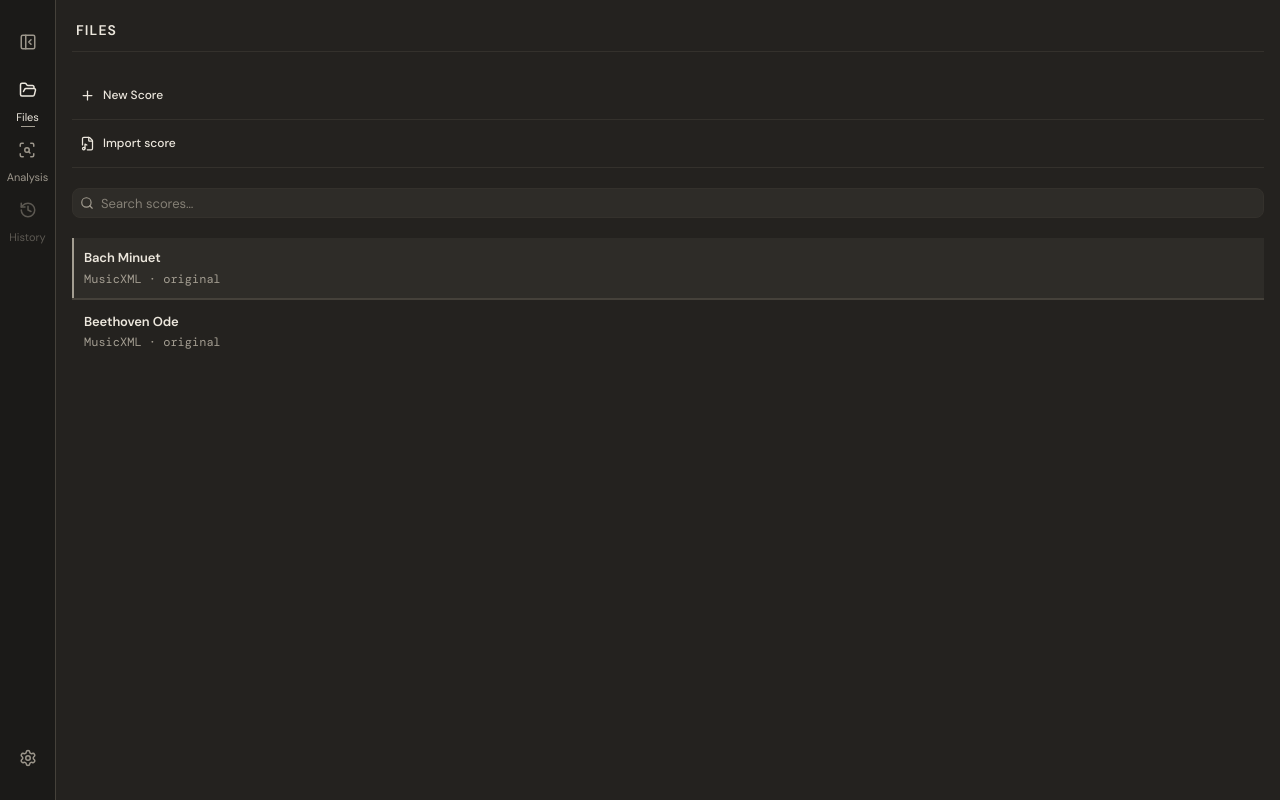
Scenario: FileRail Component › confirms deletion through a centered dialog before deleting
The width and height of the screenshot is (1280, 800).
Right-click the button with aria-label "Open Bach Minuet" at (122, 258), box [72, 238, 1264, 298]
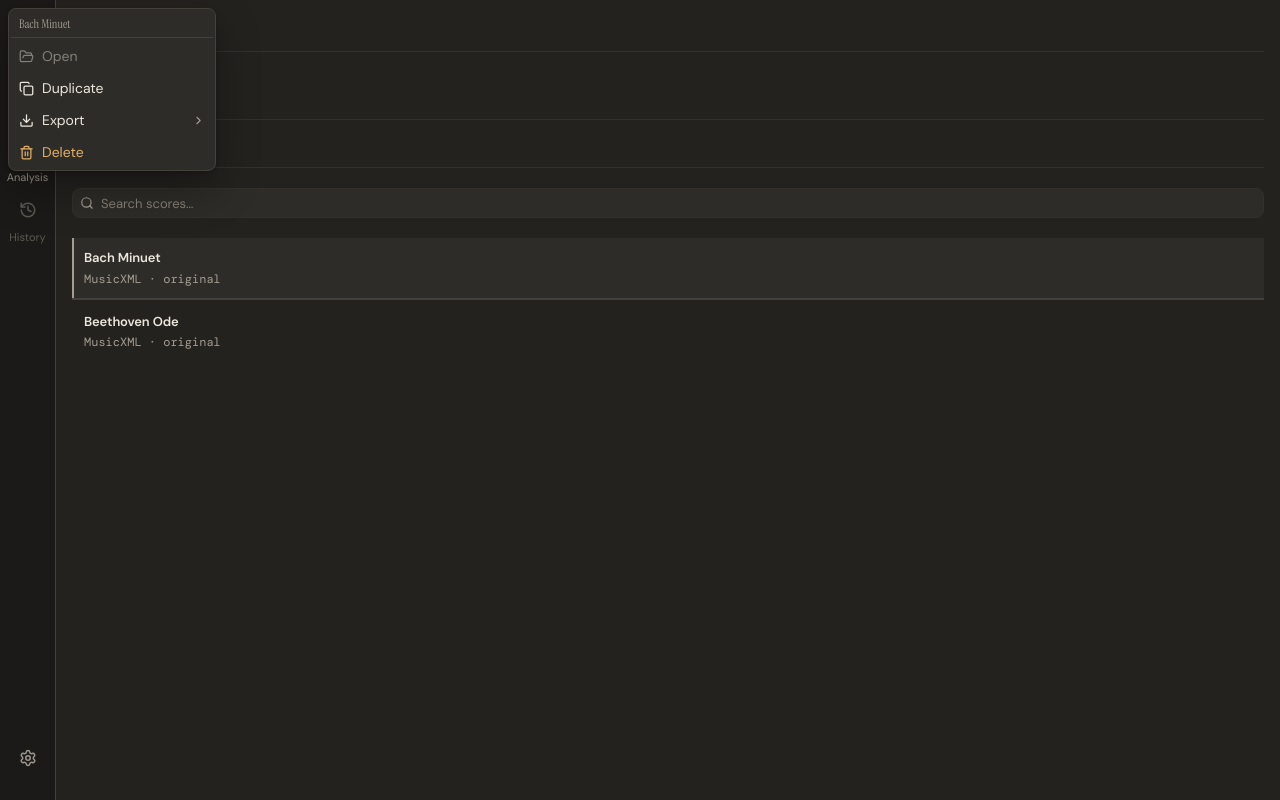
Click the menu item "Delete" at (112, 152), box [11, 136, 213, 168]
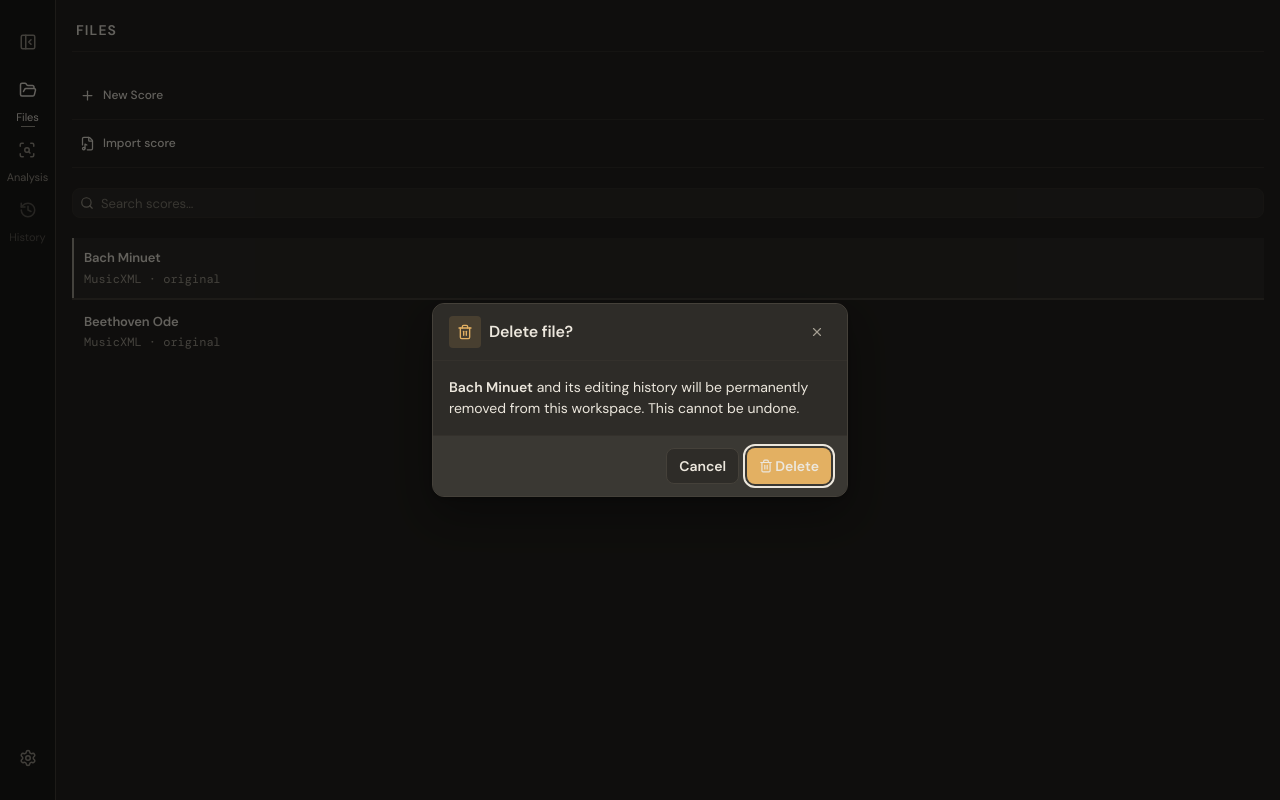
Expected: the dialog is shown, [432, 303, 848, 497]
Click the button "Cancel" at (703, 466), box [666, 448, 739, 484]
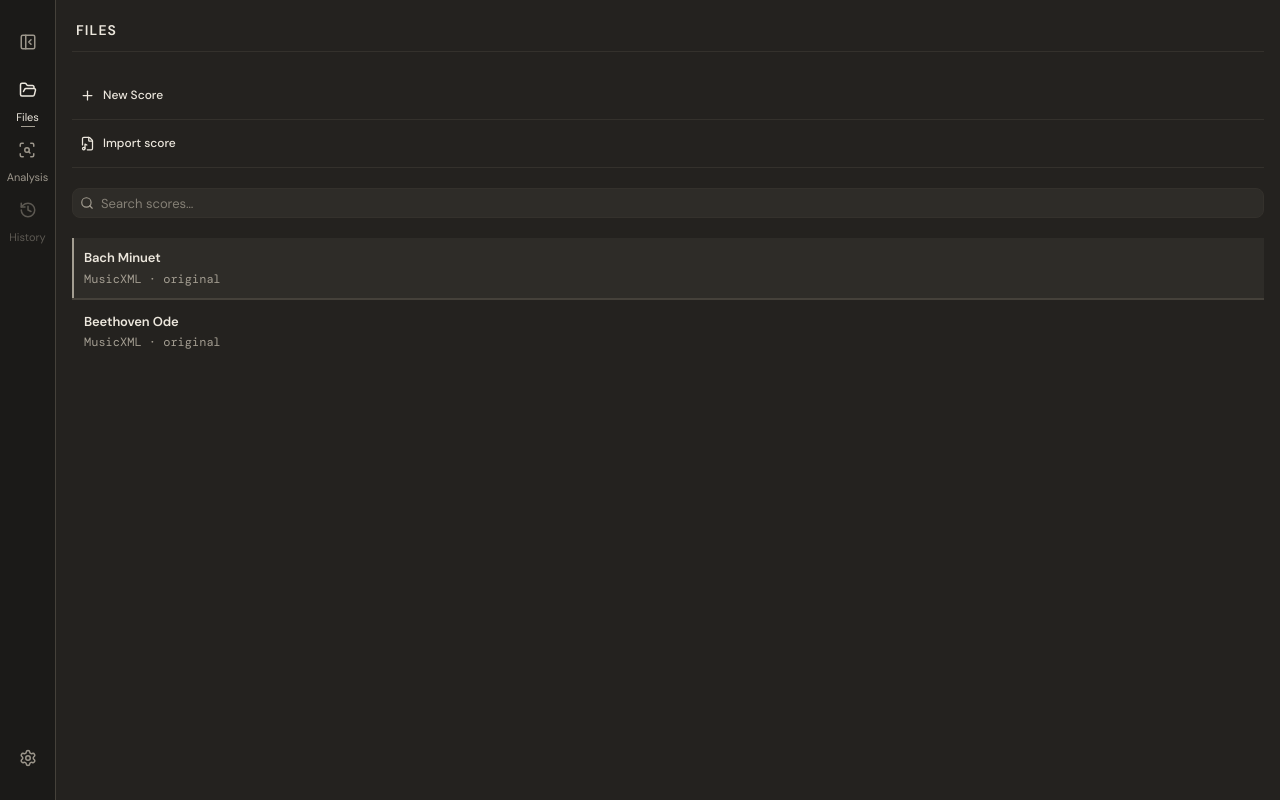
Expected: the dialog is gone
Right-click the button with aria-label "Open Bach Minuet" at (122, 258), box [72, 238, 1264, 298]
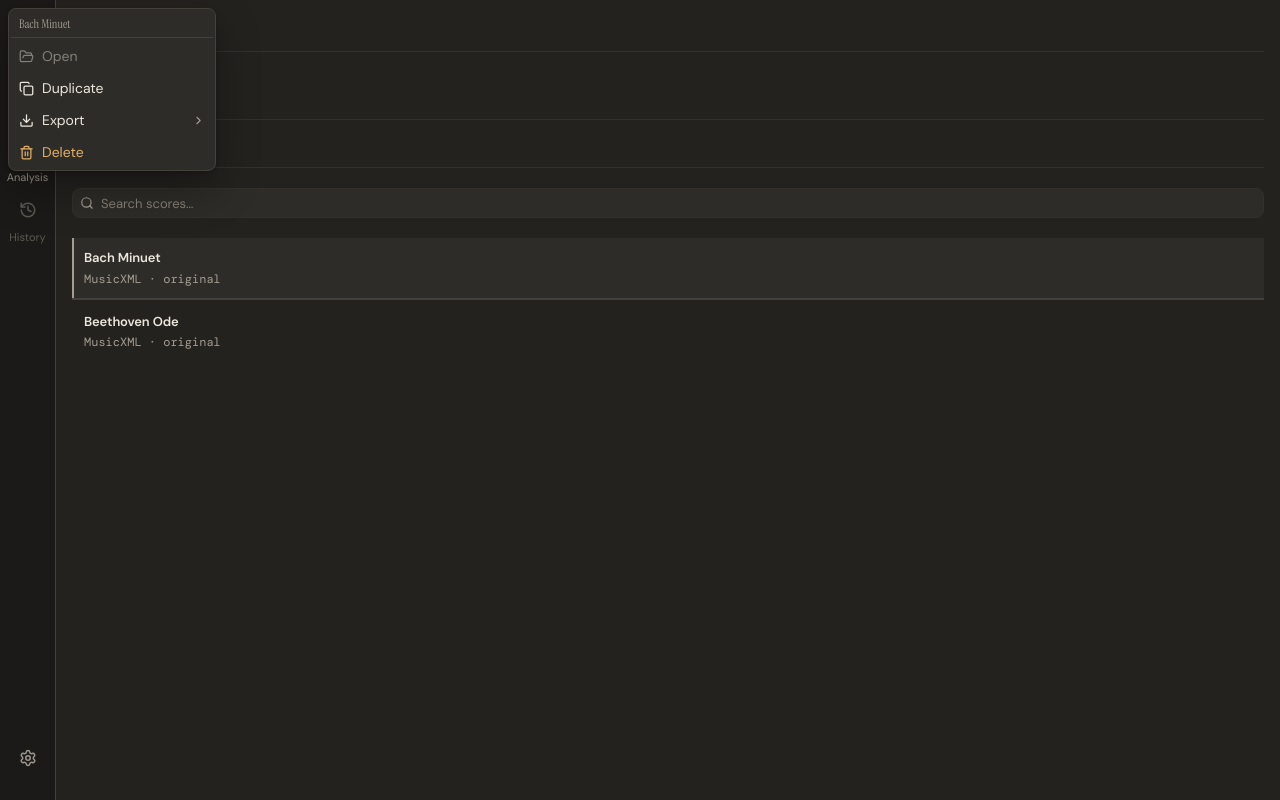
Click the menu item "Delete" at (112, 152), box [11, 136, 213, 168]
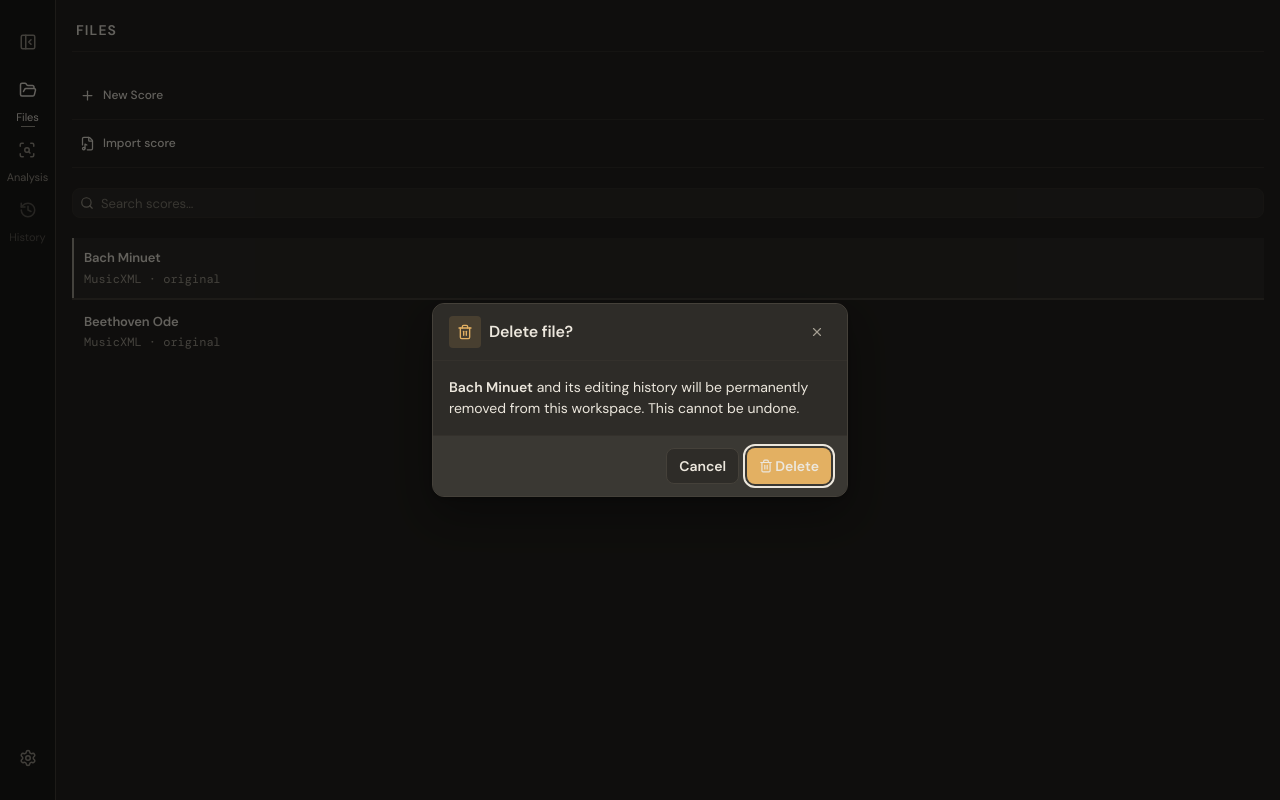
Click the button "Delete" at (789, 466), box [747, 448, 831, 484]
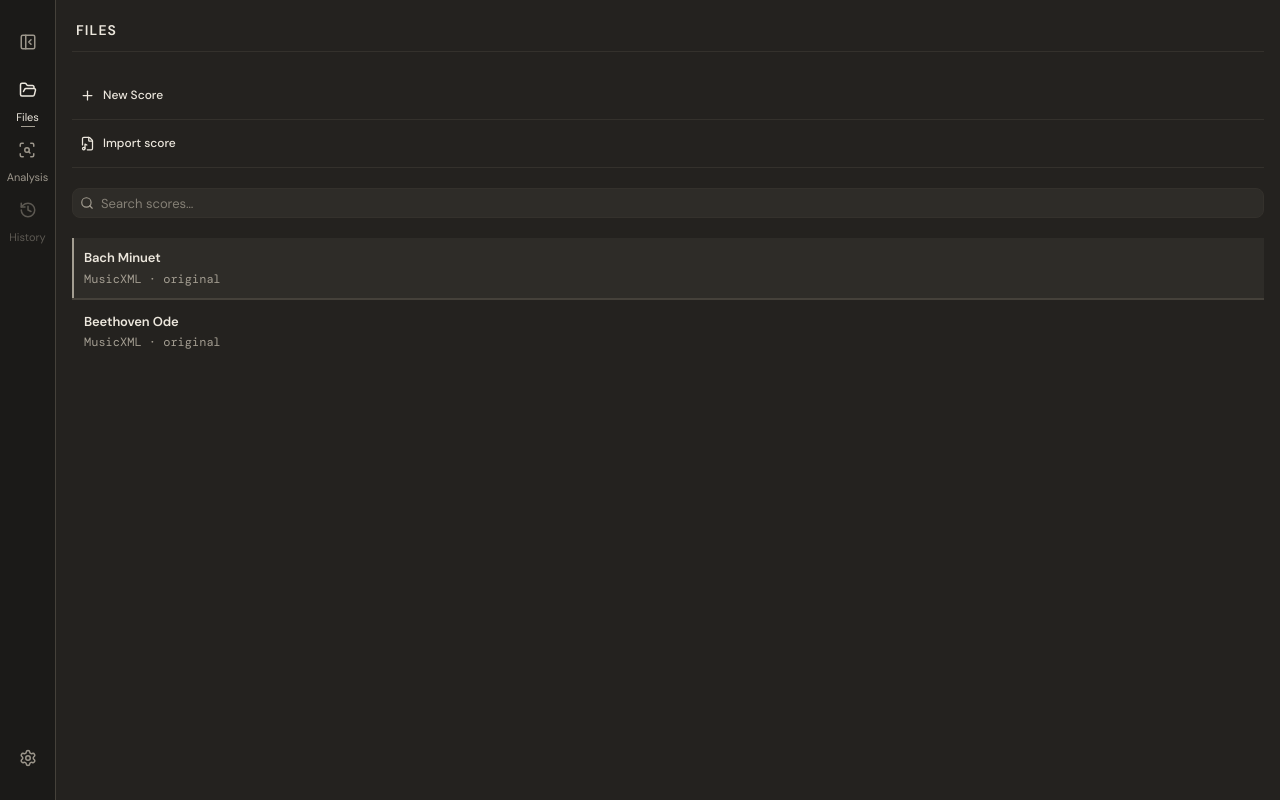
Expected: the dialog is gone
